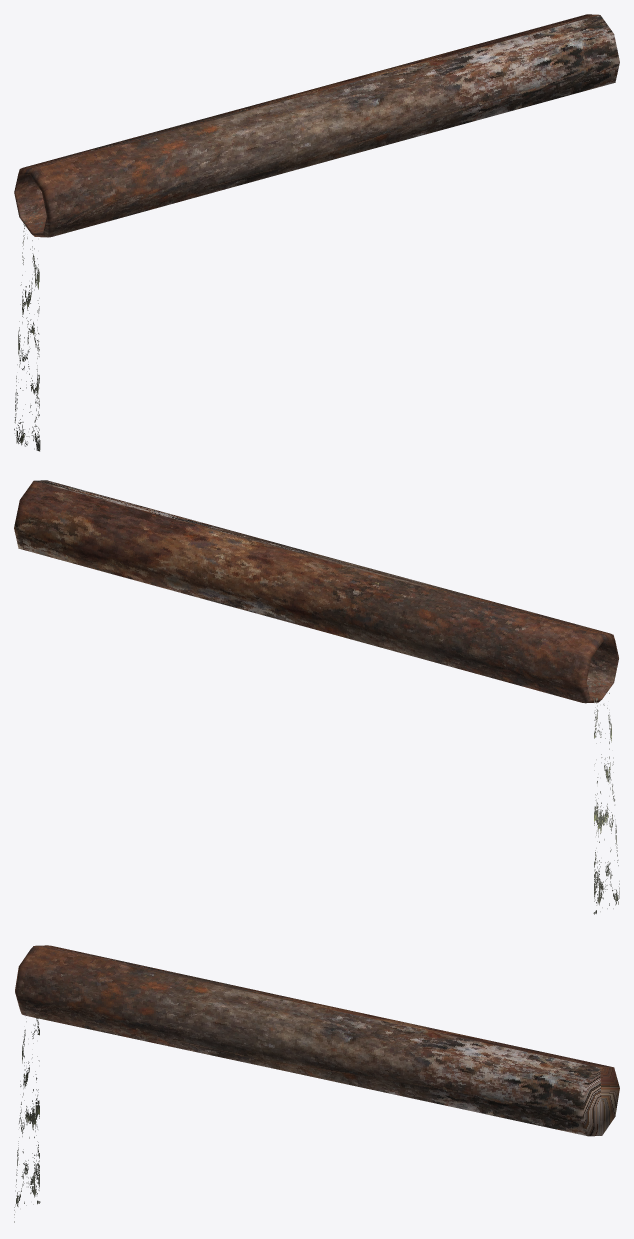
The model's file is Desague.glb.
3 renders of one model, top to bottom at view 1: azimuth 30°, elevation 25°; view 2: azimuth 150°, elevation 25°; view 3: azimuth 330°, elevation 25°, orthographic.
Visible parts, largest first — view 1: Cube.034, Plane.001; view 2: Cube.034, Plane.001; view 3: Cube.034, Plane.001.
Boxes of the visible parts, x1,y1,x2,y2 form: Cube.034: (14, 14, 619, 237); Plane.001: (14, 209, 43, 451); Cube.034: (14, 480, 618, 703); Plane.001: (587, 673, 619, 914); Cube.034: (15, 945, 619, 1136); Plane.001: (14, 1018, 40, 1222).
Size of the model in its own units: 3.02 by 1.41 by 0.3379.
Materials: 2 (2 with a texture image).
